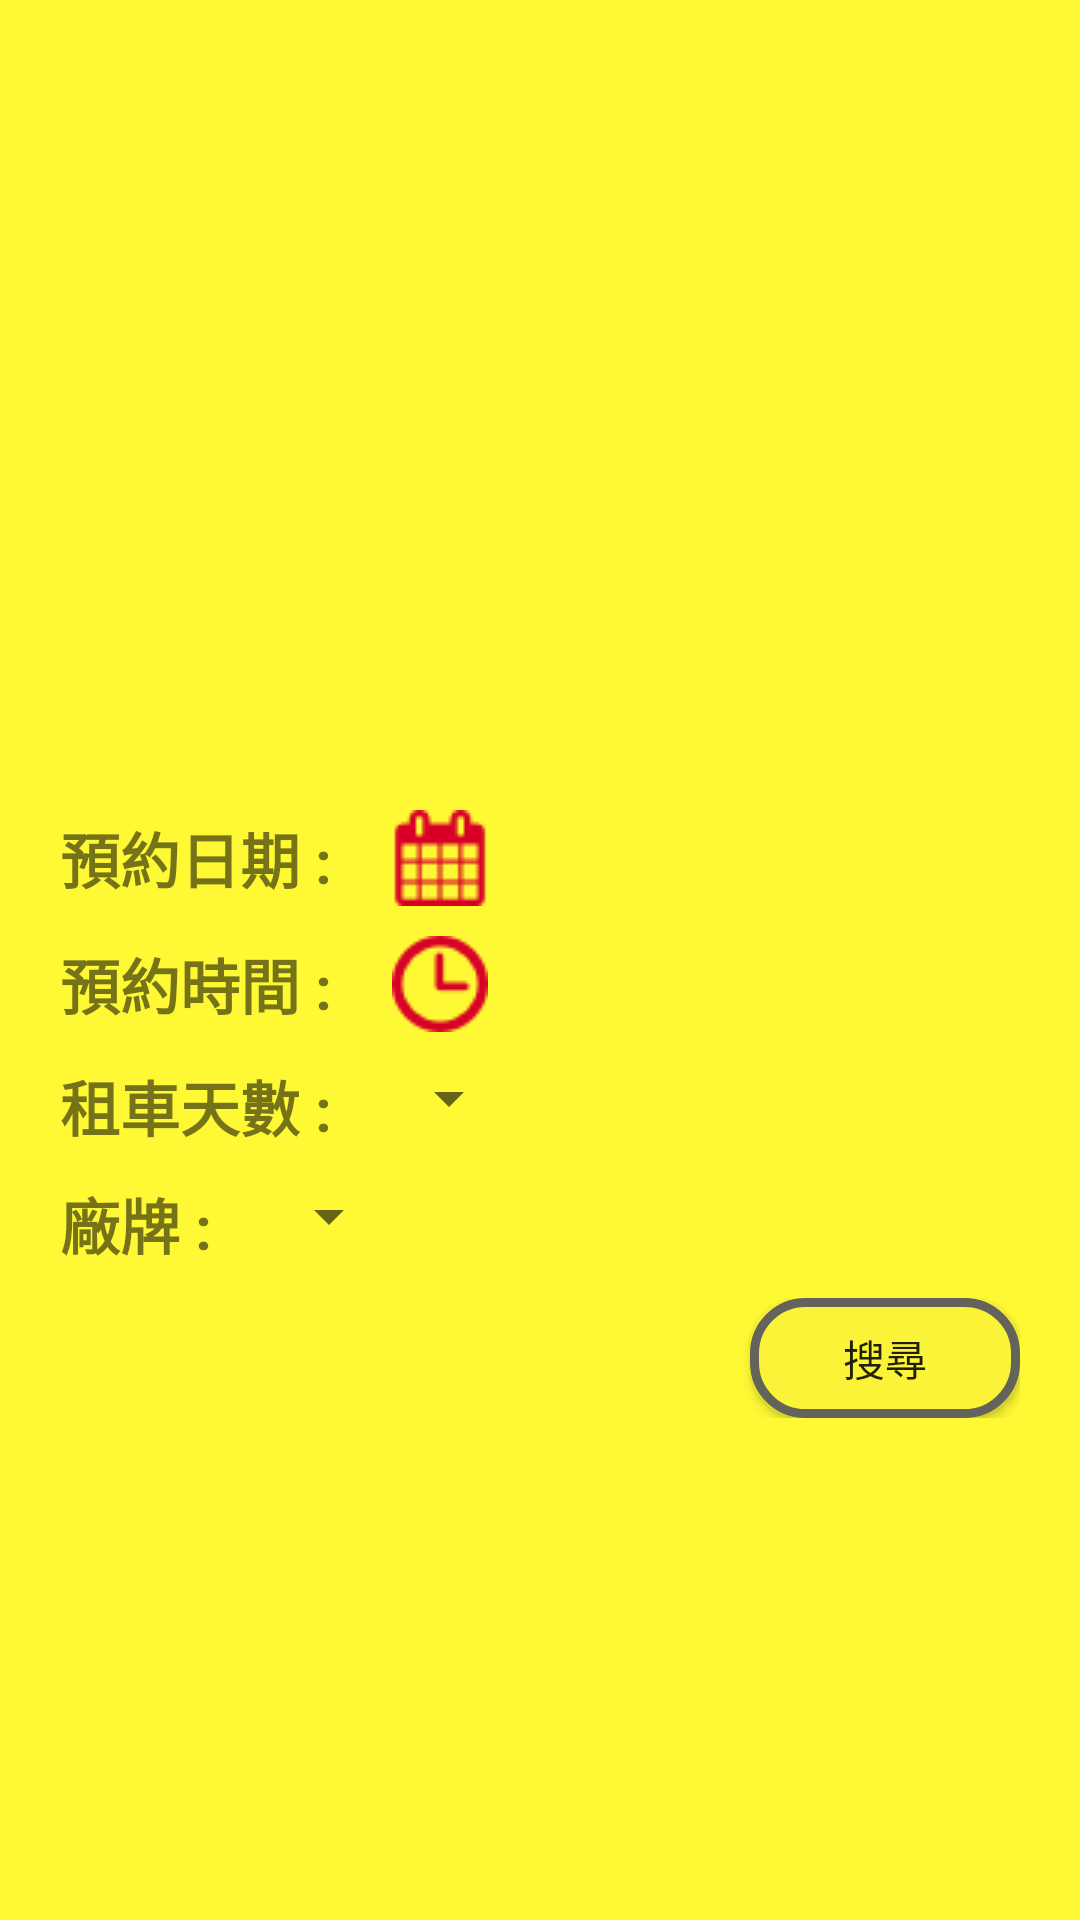

Screen size 1080×1920. Icon name, then its center in pixels as point (x, y):
calendar: point (440, 858)
clock: point (440, 984)
